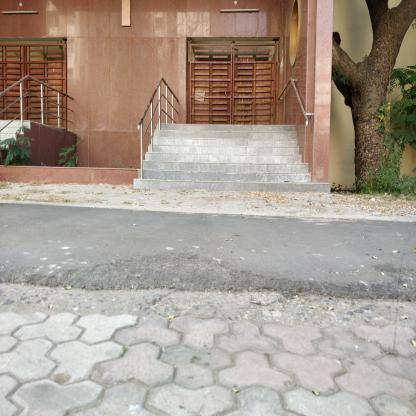stairs: (165, 122, 299, 197)
